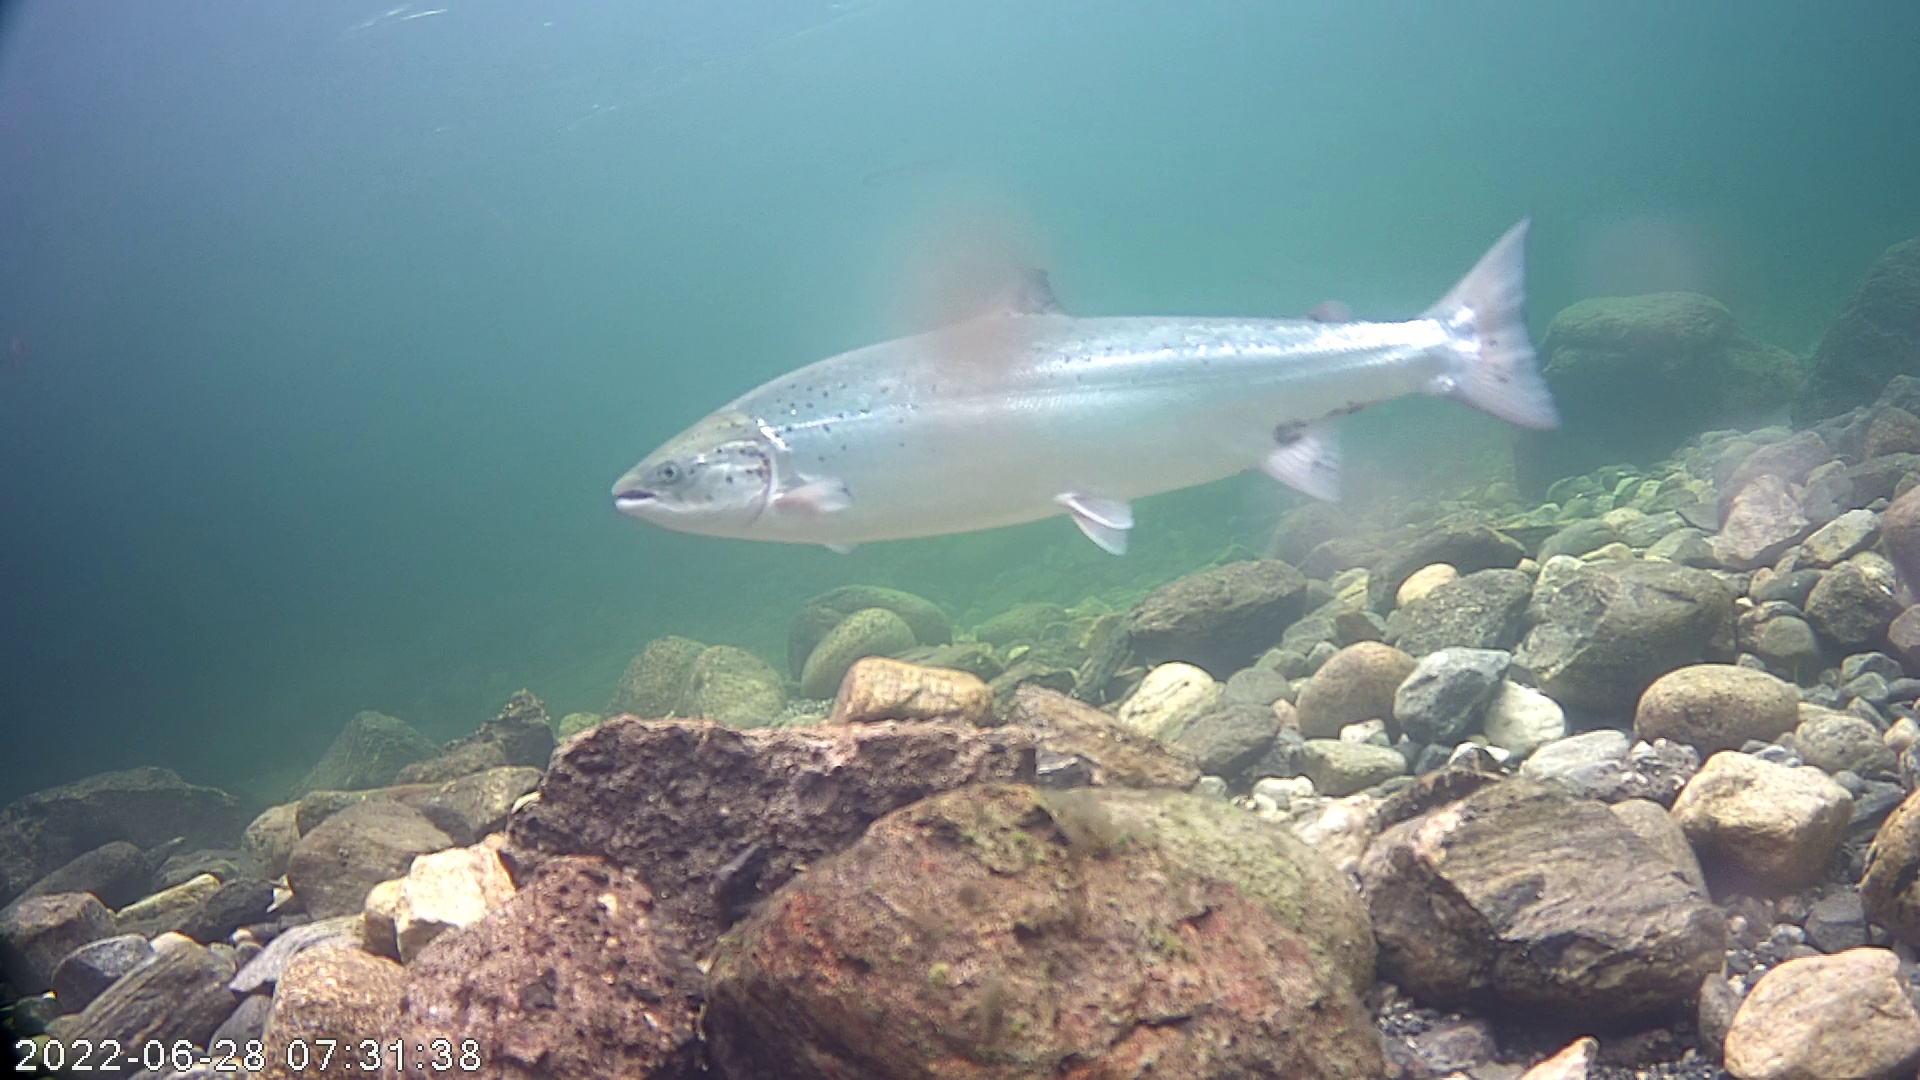salmon: (595, 194, 1582, 607)
